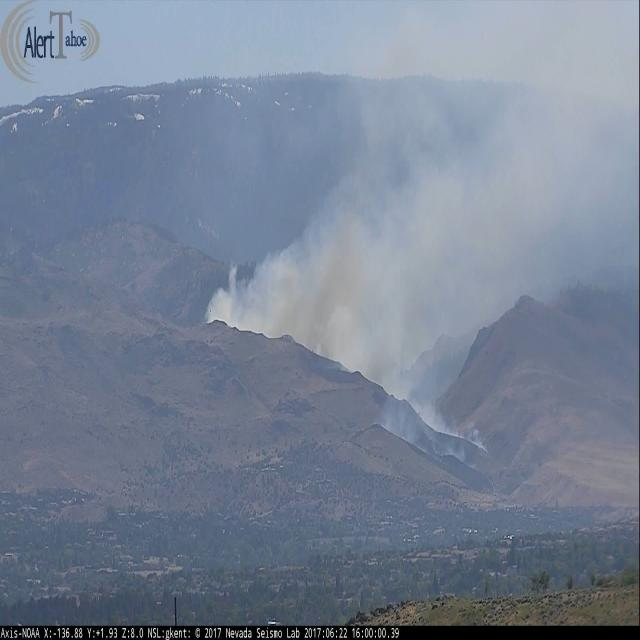smoke: (204, 4, 640, 472)
